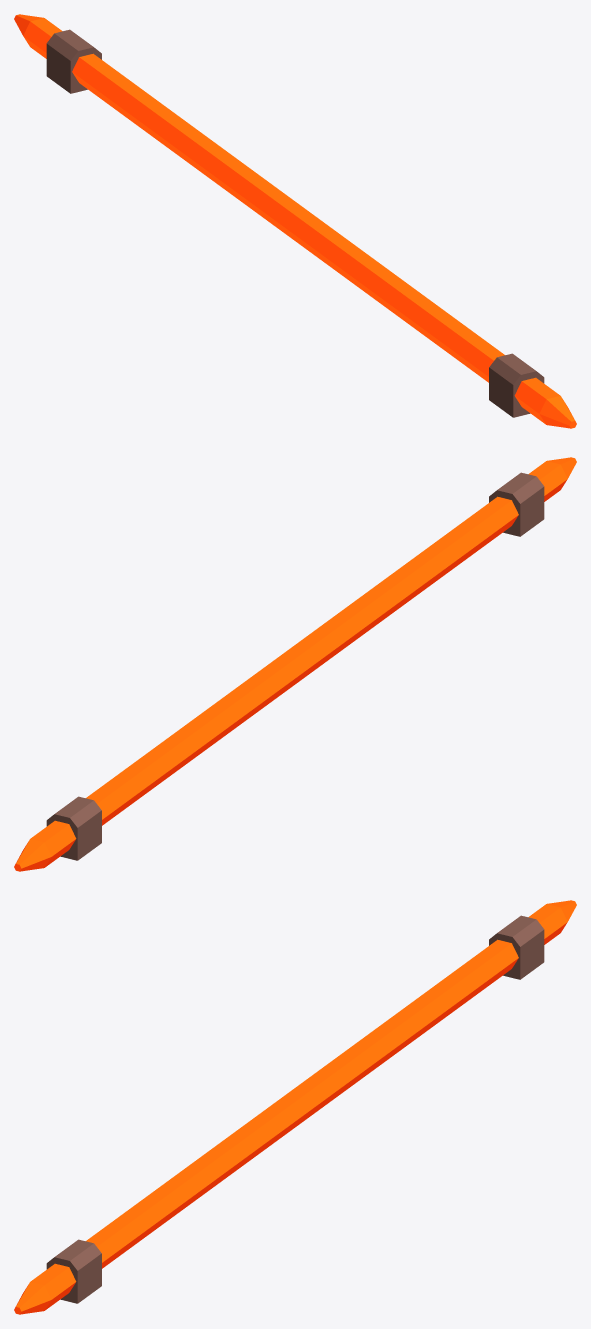
The model's file is NeonTube.fbx.
The picture shows the model from 3 angles, top to bottom: view 1: azimuth 30°, elevation 25°; view 2: azimuth 150°, elevation 25°; view 3: azimuth 330°, elevation 25°; orthographic projection.
Parts seen in each view (by area): view 1: NeonTube; view 2: NeonTube; view 3: NeonTube.
Boxes of the visible parts, left/top/right/bottom form: NeonTube: left=14, top=14, right=576, bottom=428; NeonTube: left=14, top=457, right=576, bottom=871; NeonTube: left=14, top=900, right=576, bottom=1314.
Size of the model in its own units: 4.06 by 5.11 by 126.
